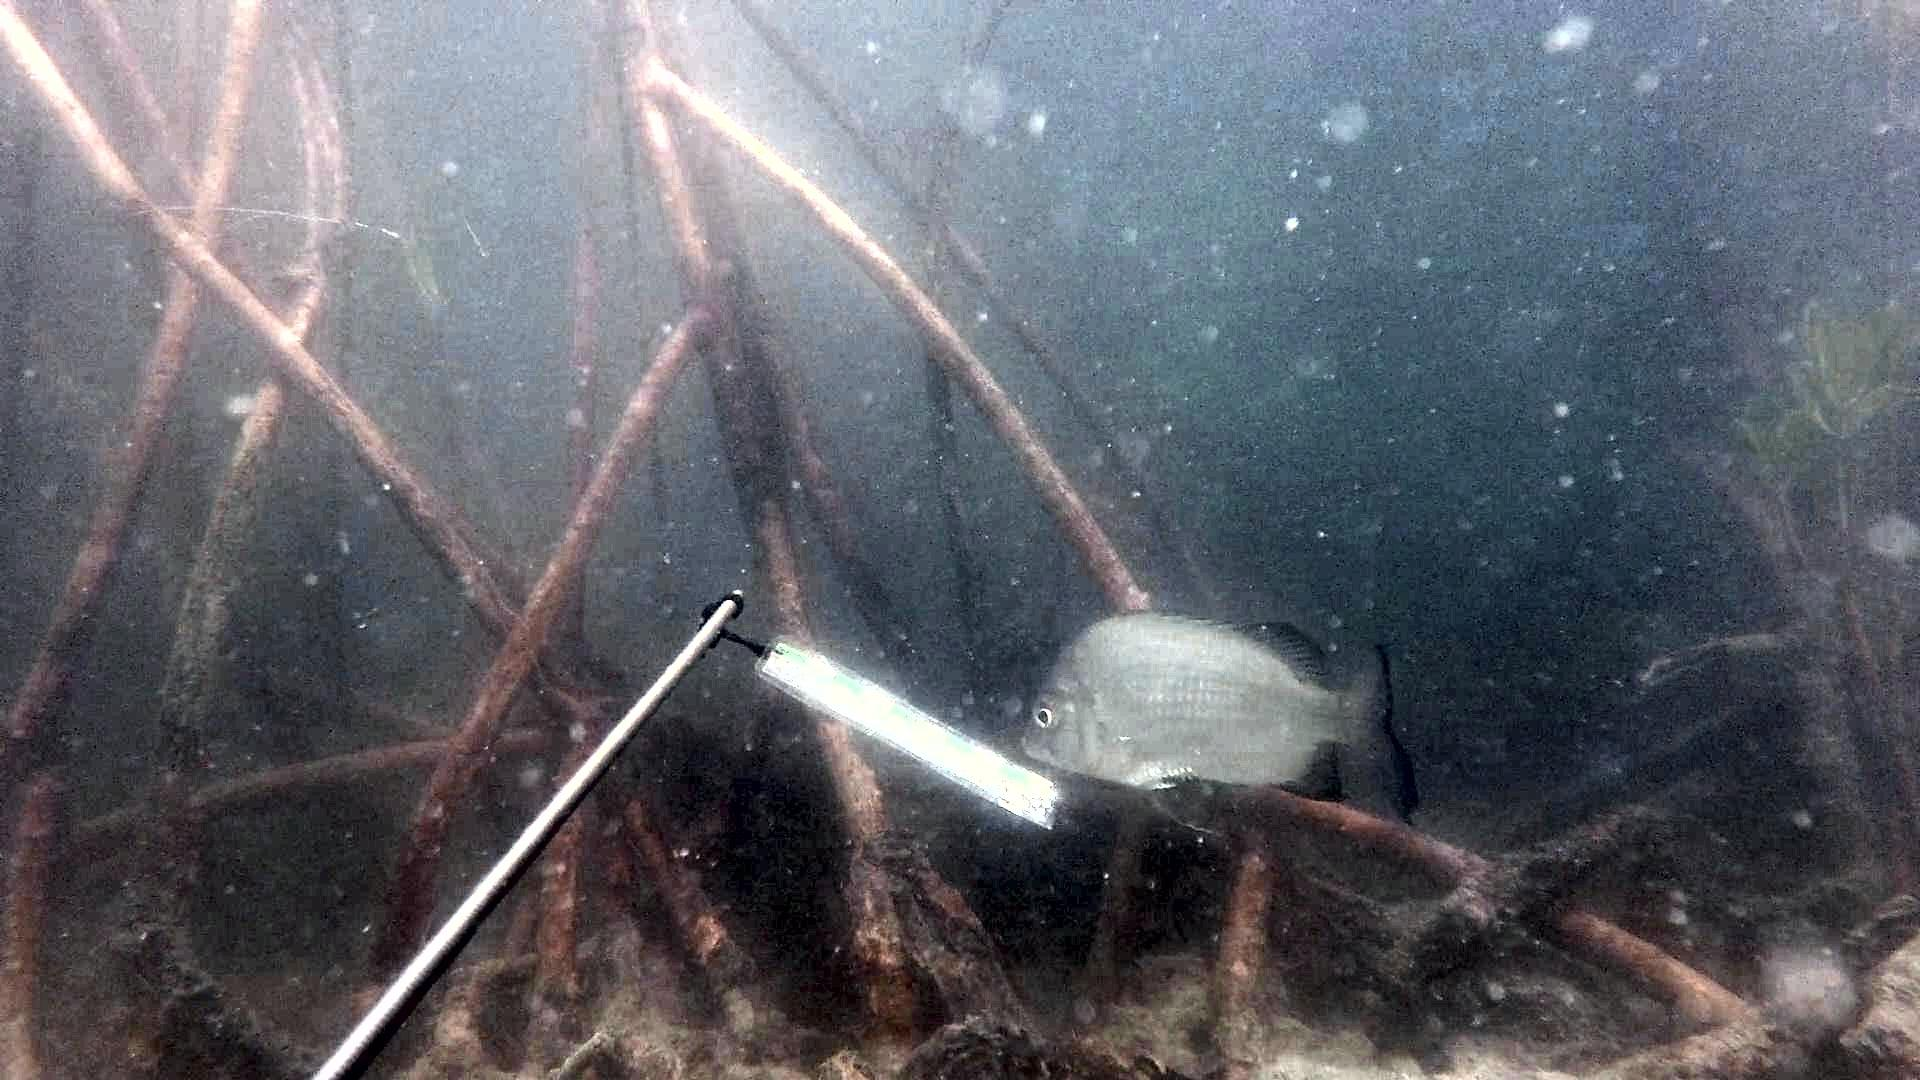acanthopagrus palmaris: (1010, 590, 1433, 842)
